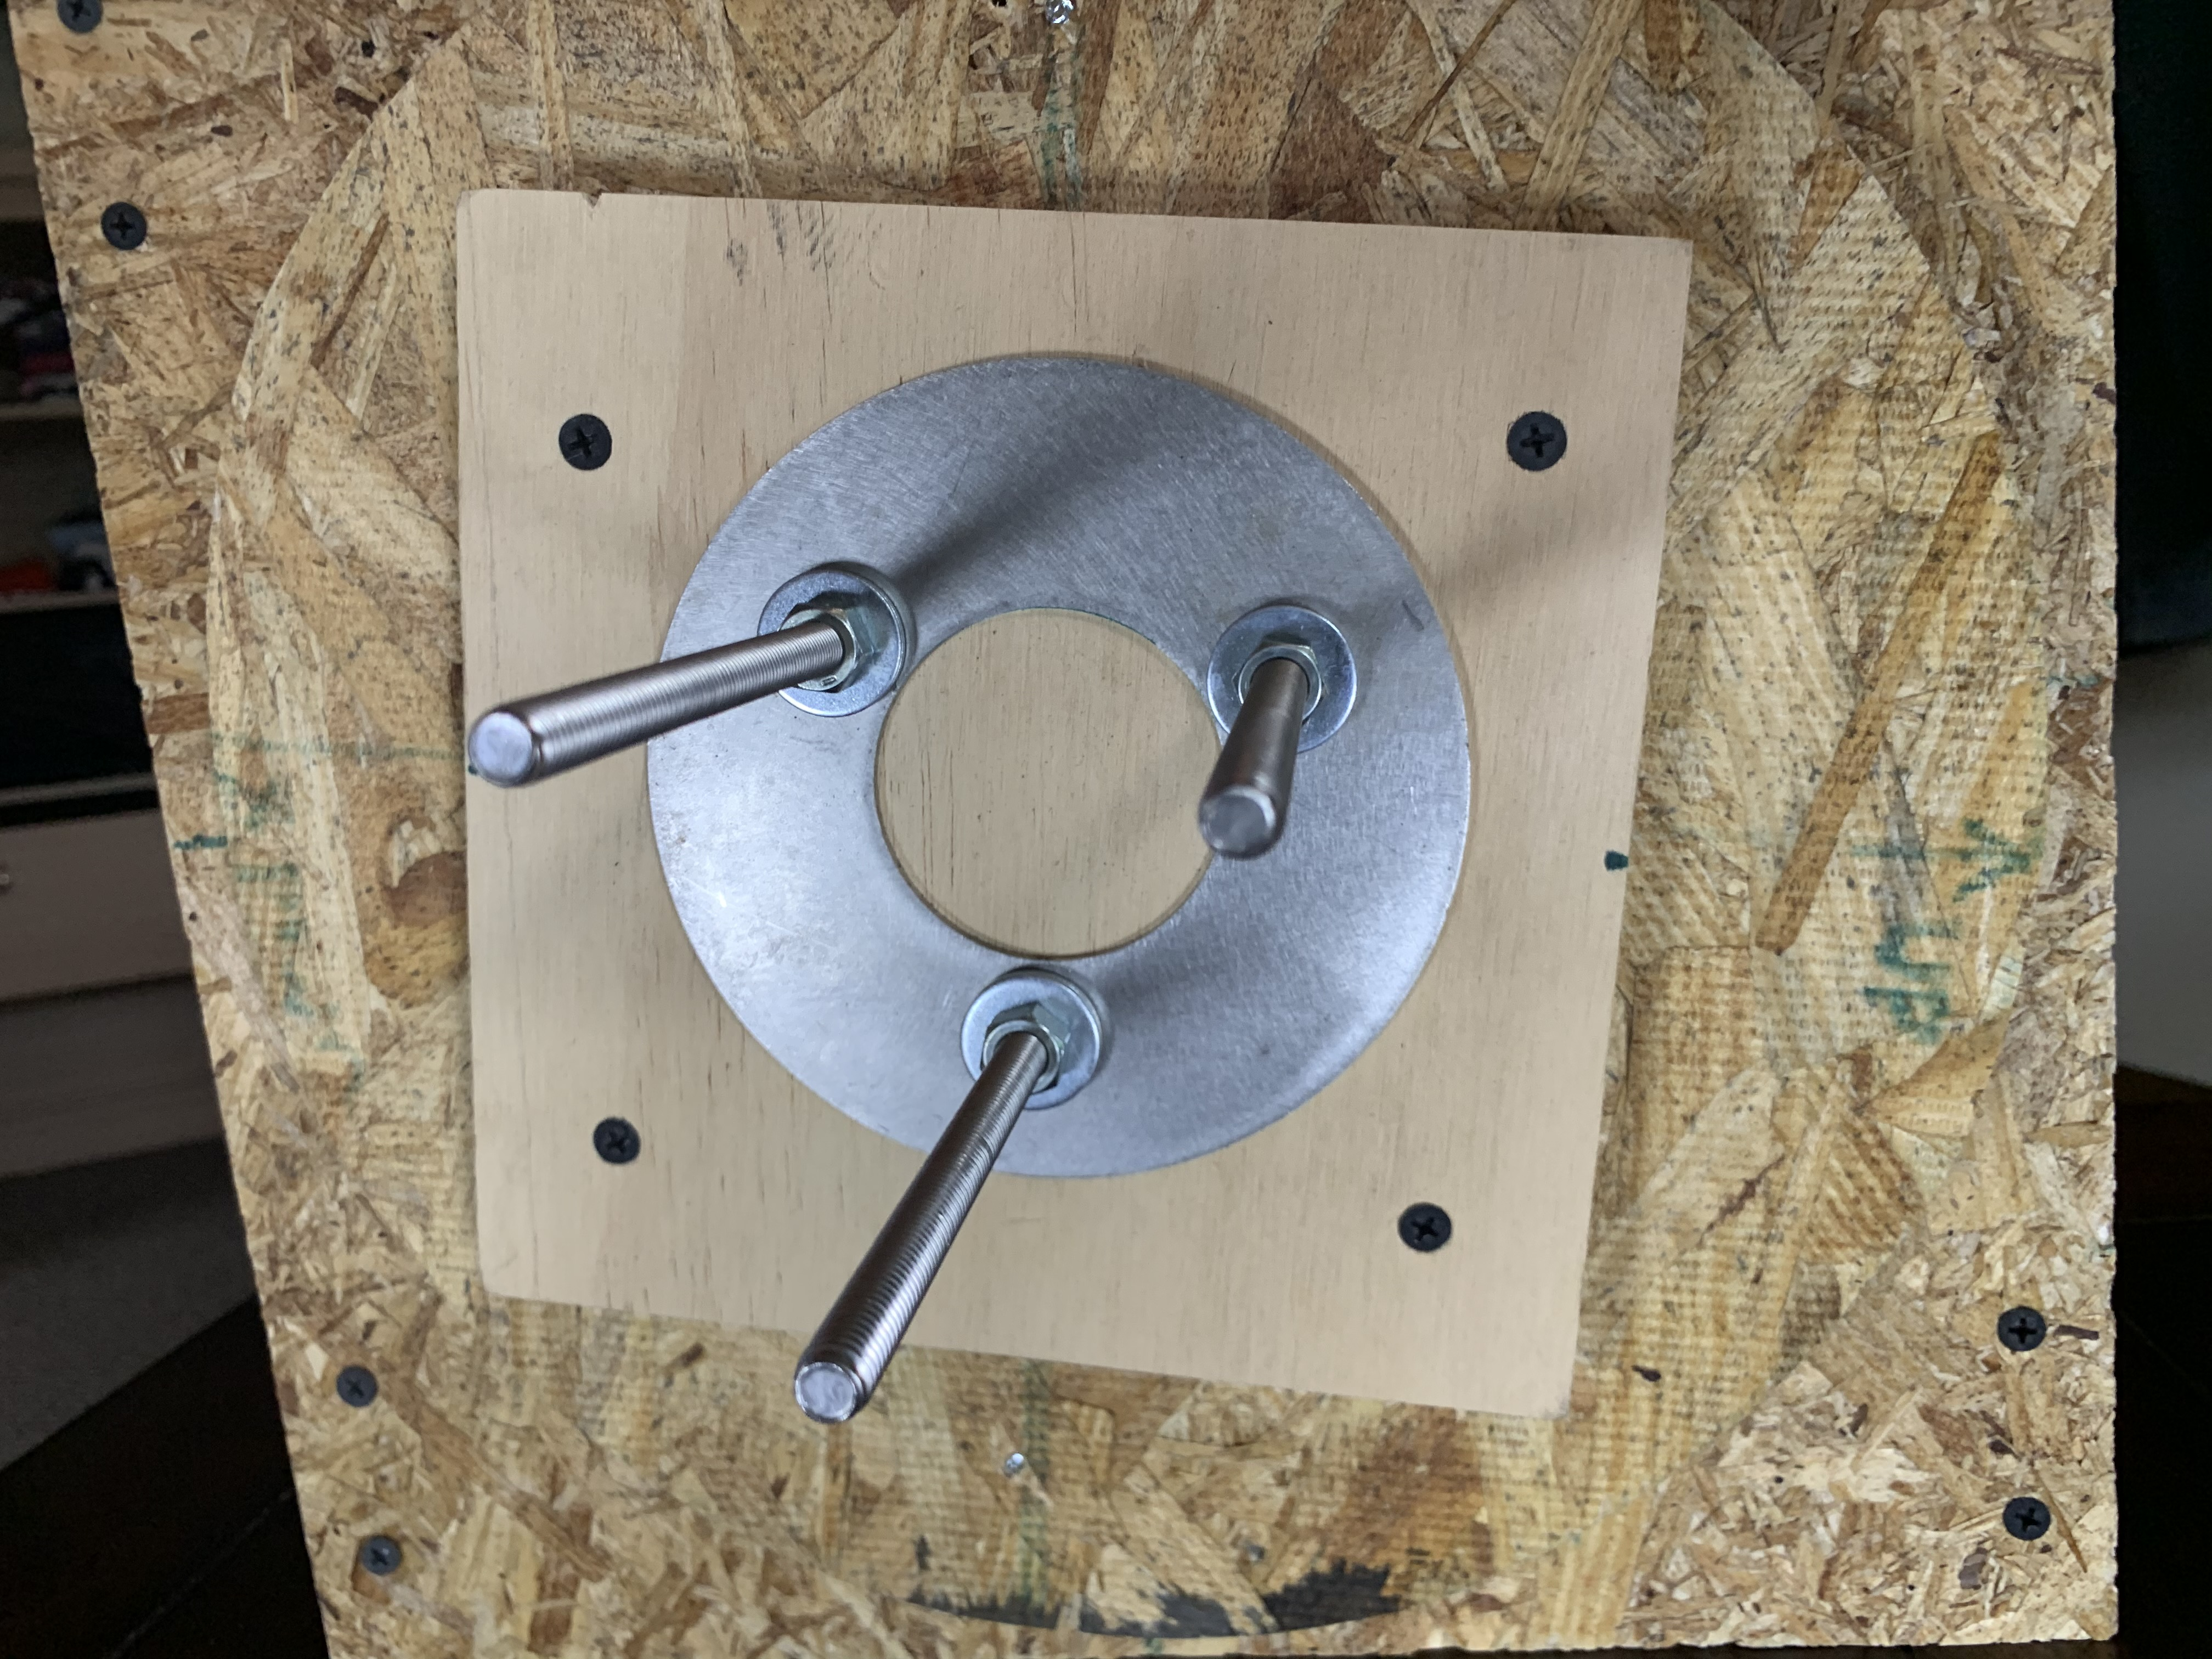bolt: (752, 558, 914, 725), (1202, 599, 1364, 763), (956, 965, 1116, 1115)
